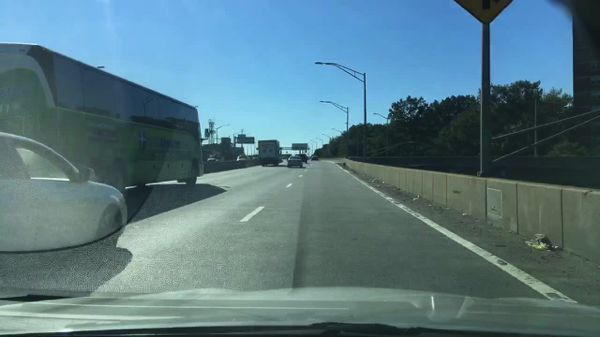bus: (0, 42, 203, 194)
car: (0, 131, 128, 286), (286, 156, 303, 169), (207, 154, 220, 163), (237, 154, 248, 162), (297, 154, 306, 162), (310, 154, 319, 162), (248, 154, 256, 161)
traffic sign: (452, 2, 513, 23), (237, 133, 255, 145), (291, 143, 308, 150)
truck: (258, 139, 283, 165)
